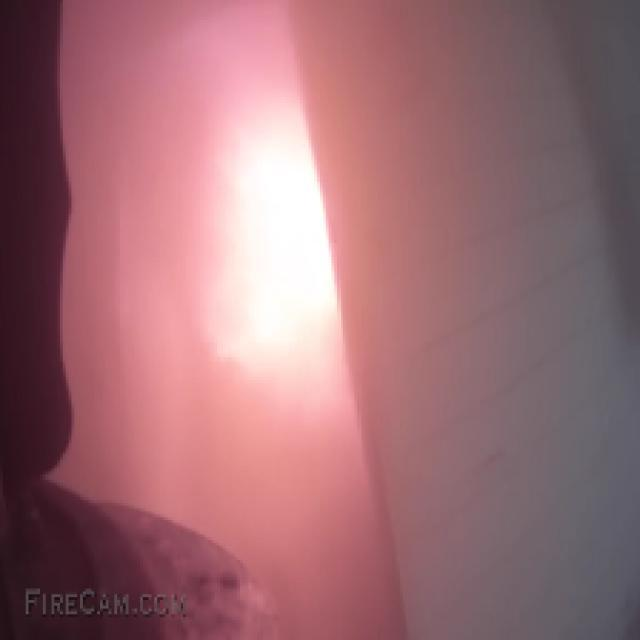Fire: (188, 100, 374, 460)
Smoke: (60, 2, 637, 638)
